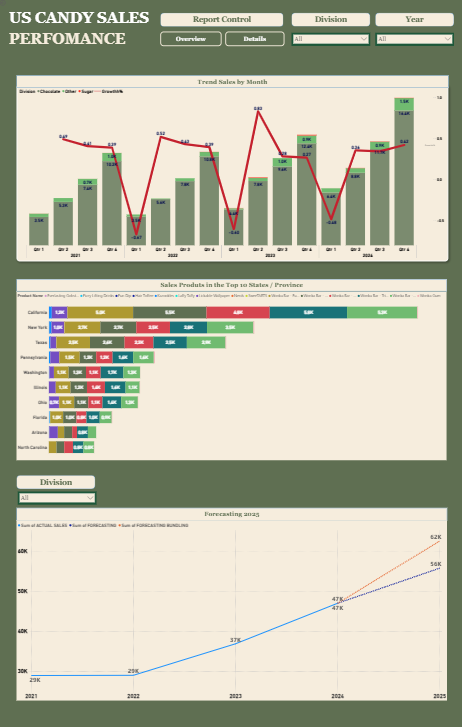

What the dashboard file says about the page in this screenshot:
{"tool":"powerbi","page":{"name":"Details","canvas":[2500,4000],"ordinal":1},"visuals":[{"type":"shape","box":[54,36,807,138],"z":0},{"type":"shape","box":[54,147,657,126],"z":1000},{"type":"shape","box":[861,72,657,75],"z":2000},{"type":"shape","box":[1556.7,73.3,420,73.3],"z":3000},{"type":"shape","box":[2003.3,73.3,420,73.3],"z":4000},{"type":"actionButton","box":[862.5,173.8,327.5,78.8],"z":5000},{"type":"actionButton","box":[1203.8,173.8,316.2,78.8],"z":6000},{"type":"lineStackedColumnComboChart","fields":{"Category":["Candy_Sales (2).Order Date.Variation.Date Hierarchy.Year","Candy_Sales (2).Order Date.Variation.Date Hierarchy.Quarter"],"Y":["Candy_Sales (2).Total_Saless"],"Y2":["Candy_Sales (2).Growthh%"],"Series":["Candy_Sales (2).Division"]},"box":[93.3,453.3,2303.3,946.7],"z":7000},{"type":"shape","box":[92.5,403.3,2305,67.5],"z":8000},{"type":"shape","box":[93.8,2712.5,2297.5,70],"z":9000},{"type":"barChart","fields":{"Category":["Candy_Sales (2).State/Province"],"Y":["Sum(Candy_Sales (2).Sales)"],"Series":["Candy_Sales (2).Product Name"]},"box":[93.3,1556.7,2293.3,900],"z":10000},{"type":"shape","box":[91.7,1490,2296.2,66.2],"z":11000},{"type":"actionButton","box":[0,0,100,40],"z":12000},{"type":"lineChart","fields":{"Category":["forecasting YoY (3).TAHUN"],"Y":["Sum(forecasting YoY (3).ACTUAL SALES)","Sum(forecasting YoY (3).FORECASTING)","Sum(forecasting YoY (3).FORECASTING BUNDLING)"]},"box":[95,2782.5,2296.2,961.2],"z":13000},{"type":"slicer","fields":{"Values":["forecasting YoY (3).DIVISION"]},"box":[96.7,2626.7,420,70],"z":14000},{"type":"shape","box":[93.3,2538.3,420,73.3],"z":15000},{"type":"slicer","fields":{"Values":["Candy_Sales (2).Division"]},"box":[1556.7,176.7,420,70],"z":16000},{"type":"slicer","fields":{"Values":["Candy_Sales (2).Order Date.Variation.Date Hierarchy.Year"]},"box":[2003.3,176.7,420,70],"z":17000}]}

Visuals, with their boxes in screenshot pixels (x1, y1, x2, y2), scaled from the page's 2500x4000 canvas onto the 462x727 screenshot:
shape: {"left": 10, "top": 7, "right": 159, "bottom": 32}
shape: {"left": 10, "top": 27, "right": 131, "bottom": 50}
shape: {"left": 159, "top": 13, "right": 281, "bottom": 27}
shape: {"left": 288, "top": 13, "right": 365, "bottom": 27}
shape: {"left": 370, "top": 13, "right": 448, "bottom": 27}
actionButton: {"left": 159, "top": 32, "right": 220, "bottom": 46}
actionButton: {"left": 222, "top": 32, "right": 281, "bottom": 46}
lineStackedColumnComboChart - Candy_Sales (2).Order Date.Variation.Date Hierarchy.Year x Candy_Sales (2).Order Date.Variation.Date Hierarchy.Quarter: {"left": 17, "top": 82, "right": 443, "bottom": 254}
shape: {"left": 17, "top": 73, "right": 443, "bottom": 86}
shape: {"left": 17, "top": 493, "right": 442, "bottom": 506}
barChart - Candy_Sales (2).State/Province x Sum(Candy_Sales (2).Sales): {"left": 17, "top": 283, "right": 441, "bottom": 447}
shape: {"left": 17, "top": 271, "right": 441, "bottom": 283}
actionButton: {"left": 0, "top": 0, "right": 18, "bottom": 7}
lineChart - forecasting YoY (3).TAHUN x Sum(forecasting YoY (3).ACTUAL SALES): {"left": 18, "top": 506, "right": 442, "bottom": 680}
slicer - forecasting YoY (3).DIVISION: {"left": 18, "top": 477, "right": 95, "bottom": 490}
shape: {"left": 17, "top": 461, "right": 95, "bottom": 475}
slicer - Candy_Sales (2).Division: {"left": 288, "top": 32, "right": 365, "bottom": 45}
slicer - Candy_Sales (2).Order Date.Variation.Date Hierarchy.Year: {"left": 370, "top": 32, "right": 448, "bottom": 45}
